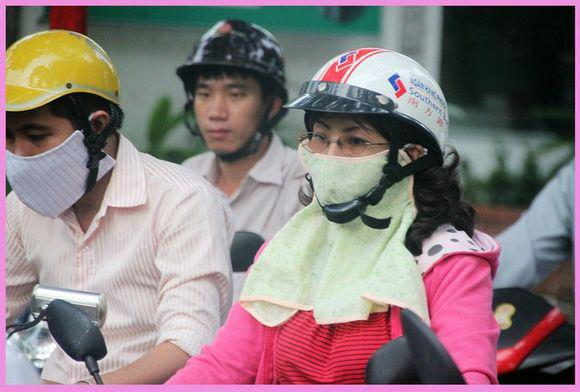NONE: (193, 83, 268, 156)
OK: (305, 127, 403, 215)
WRONG: (4, 104, 111, 214)
